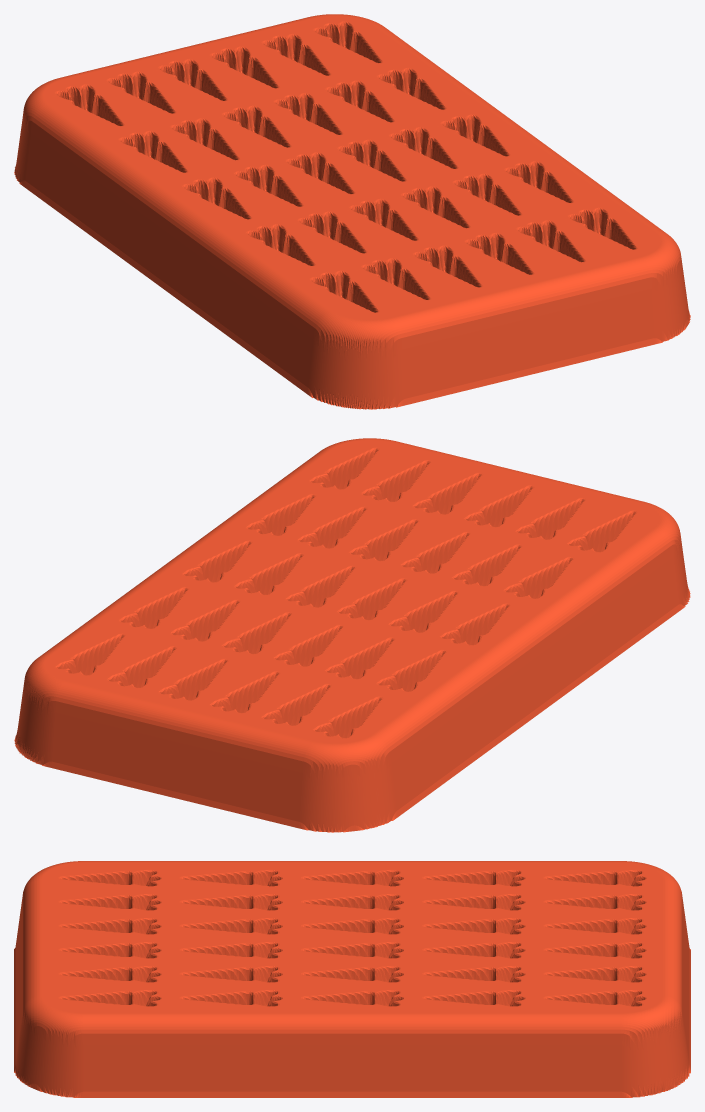
File: mold.glb
The picture shows the model from 3 angles, top to bottom: view 1: azimuth 30°, elevation 25°; view 2: azimuth 150°, elevation 25°; view 3: azimuth 270°, elevation 25°; orthographic projection. The views are drawn at different scales.
Visible parts, largest first — view 1: geometry_0; view 2: geometry_0; view 3: geometry_0.
Part boxes in pixels (x1=…): geometry_0: x1=14, y1=14, x2=690, y2=409; geometry_0: x1=14, y1=438, x2=690, y2=832; geometry_0: x1=14, y1=861, x2=690, y2=1097.
Size of the model in its own units: 0.0536 by 0.0105 by 0.0882.
